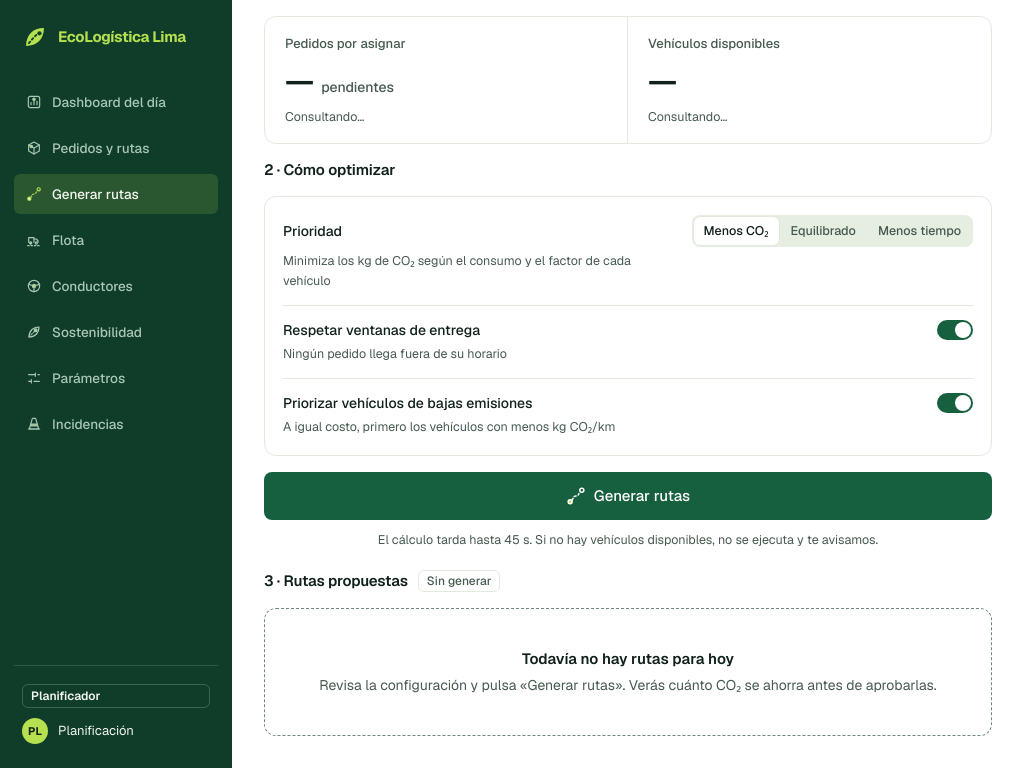
Test: muestra el error genérico de generación cuando el servicio no entrega un Error
The image size is (1024, 768).
(page scrolled)
Click the button "Generar rutas" at (628, 496), box [264,472,992,520]
(page scrolled)
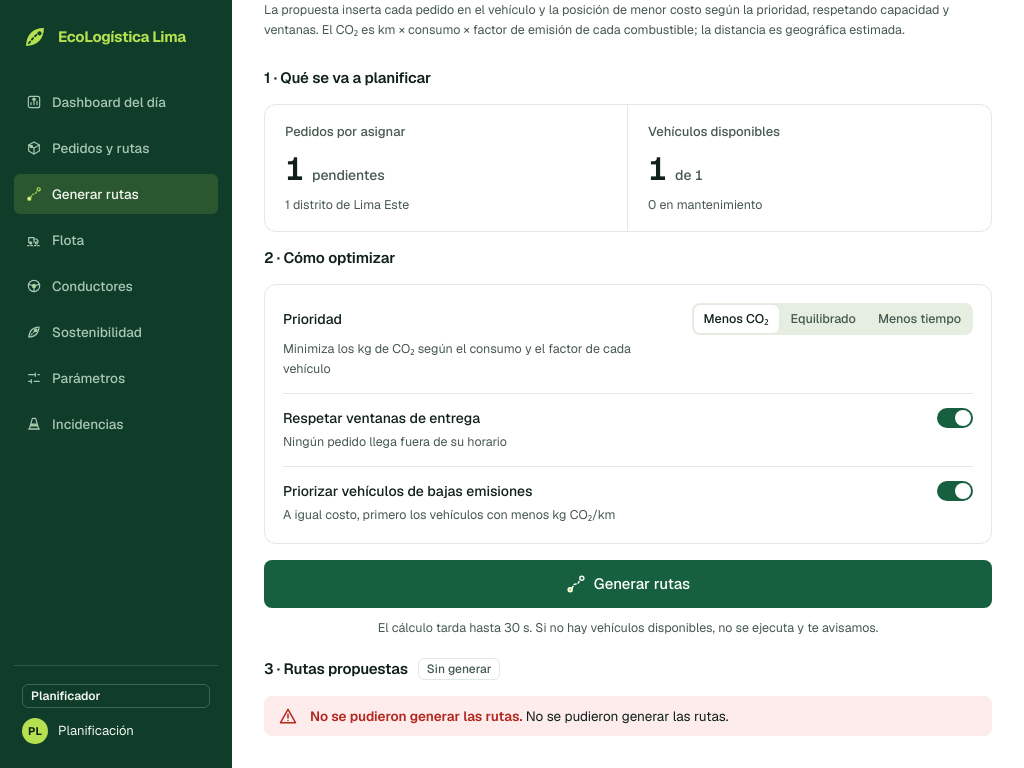
Expected: the message shows "No se pudieron generar las rutas", [310,707,522,725]
